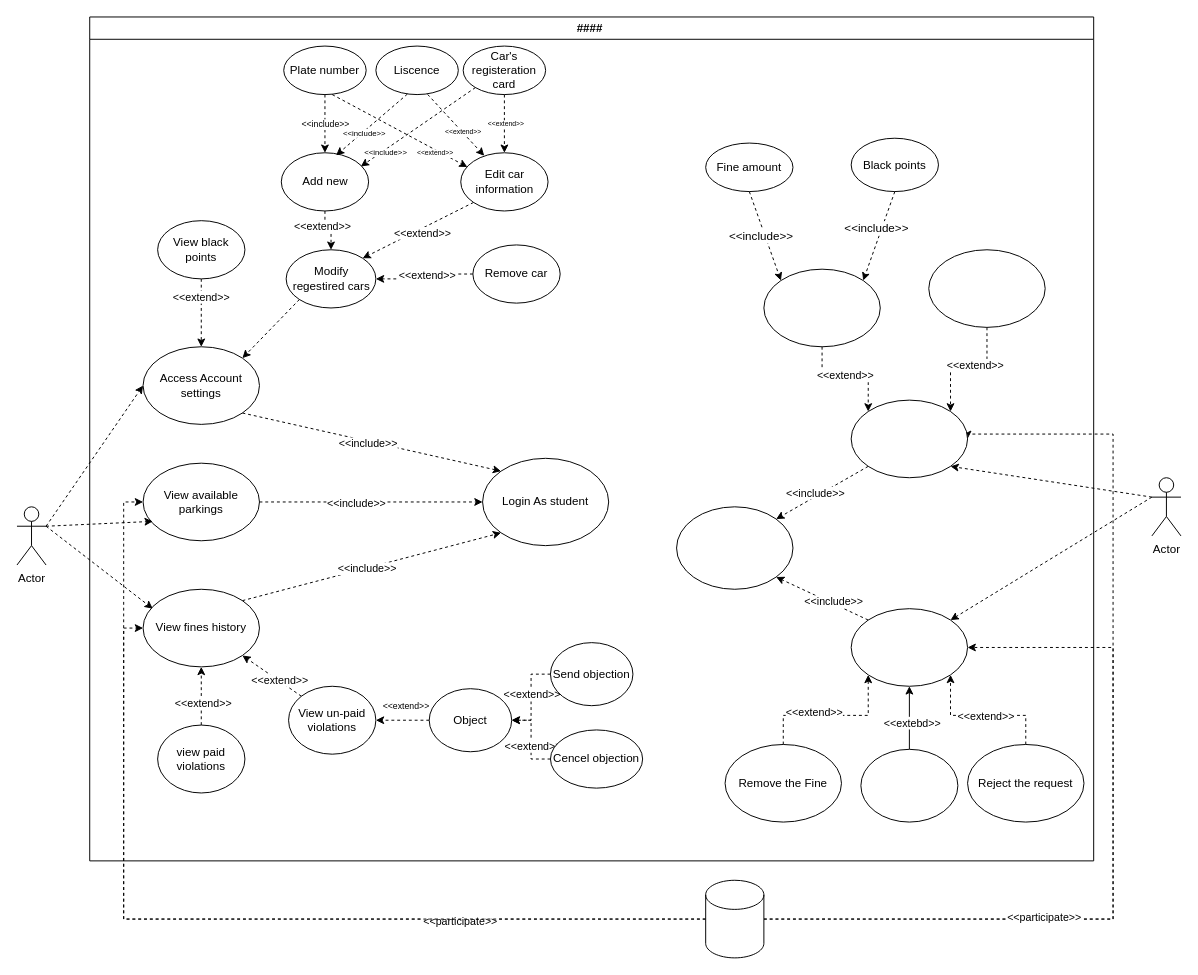
The diagram is 1198 pixels wide and 975 high, and some of its shapes have lost their labels. Here are the shapes that lost their labels. From the top down, the centre of each, then its label:
At pixel 821 307: "Apply the fine".
At pixel 986 288: "Cancel the violation".
At pixel 909 438: "View pending fines".
At pixel 734 547: "Login as Authority".
At pixel 909 647: "View objection requests".
At pixel 909 785: "Edit the Fine".
